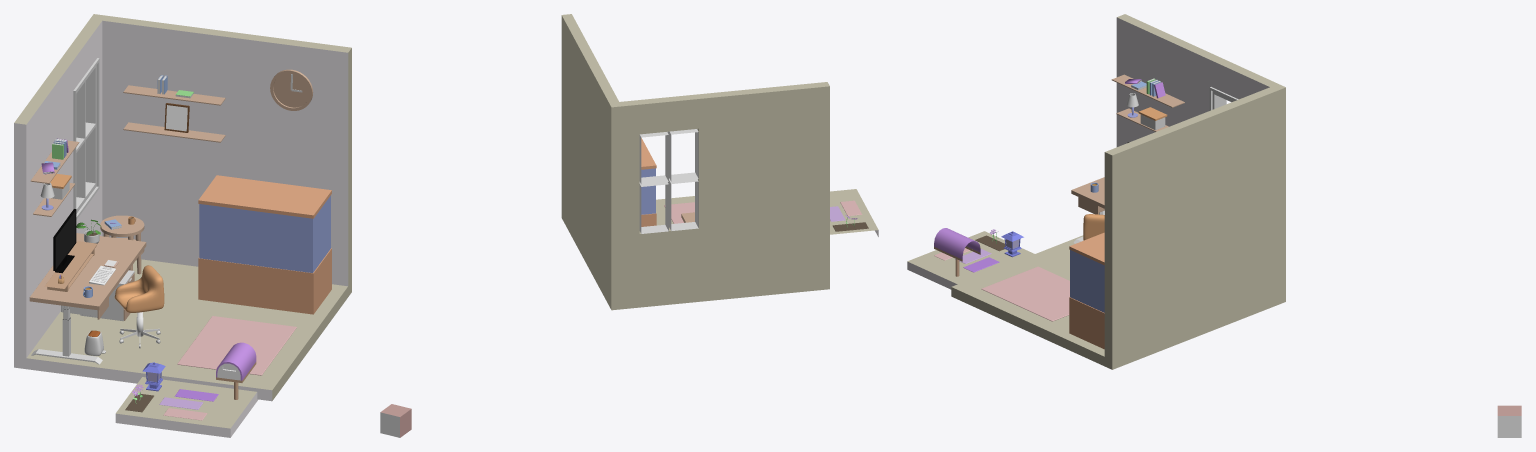
Rendered from Finale Version 18.glb.
3 views of the same model, side by side, from view 1: azimuth 30°, elevation 25°; view 2: azimuth 150°, elevation 25°; view 3: azimuth 270°, elevation 25° (orthographic). The views are drawn at different scales.
Parts seen in each view (by area): view 1: Body, Aquarium, Desks, Floor Items, Mini Floor, Shelves, Table Stuff, Chair, Clock, Mailbox, Computer, Lamp (+3 smaller); view 2: Body, Mini Floor, Aquarium, Cube; view 3: Body, Aquarium, Floor Items, Mini Floor, Shelves, Mailbox, Desks, Cube.
Boxes of the visible parts, box(x1,y1,x2,y2) form: Body: box(14, 14, 351, 401); Aquarium: box(198, 175, 331, 314); Desks: box(29, 215, 146, 364); Floor Items: box(80, 270, 296, 375); Mini Floor: box(115, 377, 258, 437); Shelves: box(30, 75, 225, 216); Table Stuff: box(44, 216, 135, 297); Chair: box(114, 265, 164, 312); Clock: box(270, 69, 313, 110); Mailbox: box(216, 342, 256, 399); Computer: box(53, 209, 76, 273); Lamp: box(142, 362, 165, 391); Body: box(561, 14, 829, 310); Mini Floor: box(830, 189, 878, 236); Aquarium: box(641, 138, 656, 226); Cube: box(380, 404, 411, 437); Body: box(951, 14, 1285, 369); Aquarium: box(1069, 232, 1104, 349); Floor Items: box(981, 266, 1069, 321); Mini Floor: box(907, 231, 1034, 289); Shelves: box(1111, 74, 1184, 131); Mailbox: box(934, 228, 980, 276); Desks: box(1071, 177, 1104, 243); Cube: box(1497, 405, 1521, 437).
Size of the model in its own units: 27.58 by 26.25 by 50.63.
